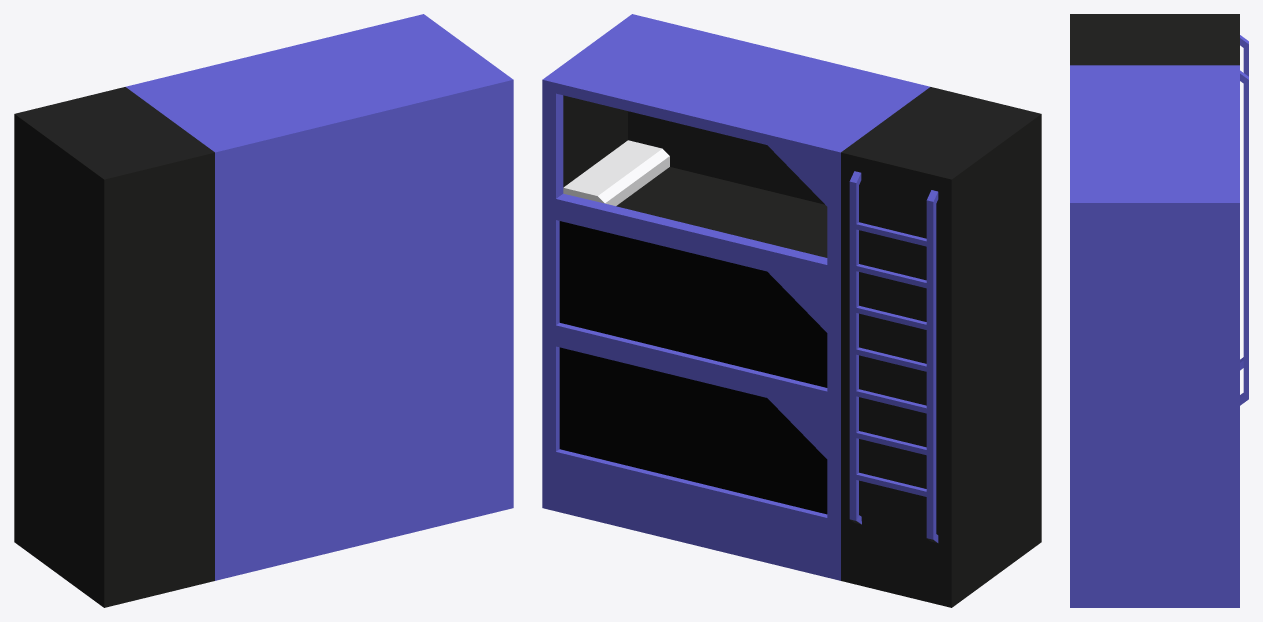
Rendered from Bed_1.3.fbx.
The picture shows the model from 3 angles, left to right: view 1: azimuth 30°, elevation 25°; view 2: azimuth 150°, elevation 25°; view 3: azimuth 270°, elevation 25°; orthographic projection. The views are drawn at different scales.
Visible parts, largest first — view 1: beds.006; view 2: beds.006; view 3: beds.006.
Part boxes in pixels (<box>): beds.006: <box>14,14,513,607</box>; beds.006: <box>542,14,1041,607</box>; beds.006: <box>1070,14,1248,607</box>.
Size of the model in its own units: 5 by 2 by 5.
